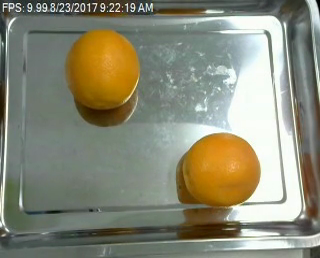Orange: (66, 28, 140, 109), (180, 132, 261, 205)
